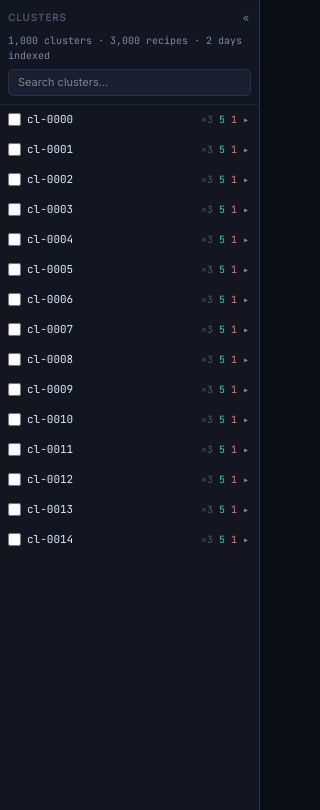
Test: ClusterPane › expanding a cluster lazily loads its recipes and dates
expect the text "cl-0000" is shown: met, box [27, 112, 73, 126]
Click the button named "Expand cl-0005" at (246, 270), box [241, 260, 251, 279]
(page scrolled)
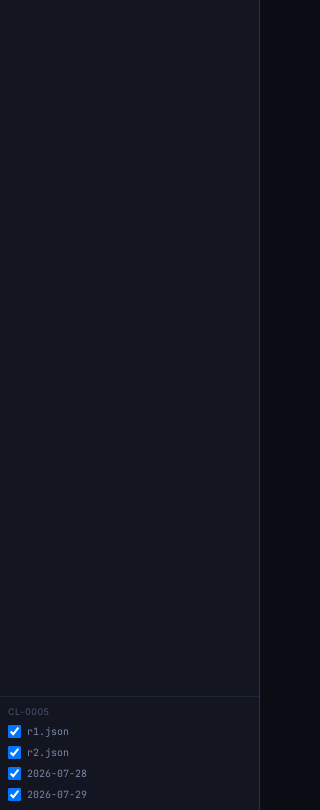
expect the checkbox labelled "r1.json" is shown: met, box [8, 725, 21, 738]
expect the checkbox labelled "r2.json" is shown: met, box [8, 746, 21, 759]
expect the checkbox labelled "2026-07-28" is shown: met, box [8, 767, 21, 780]
